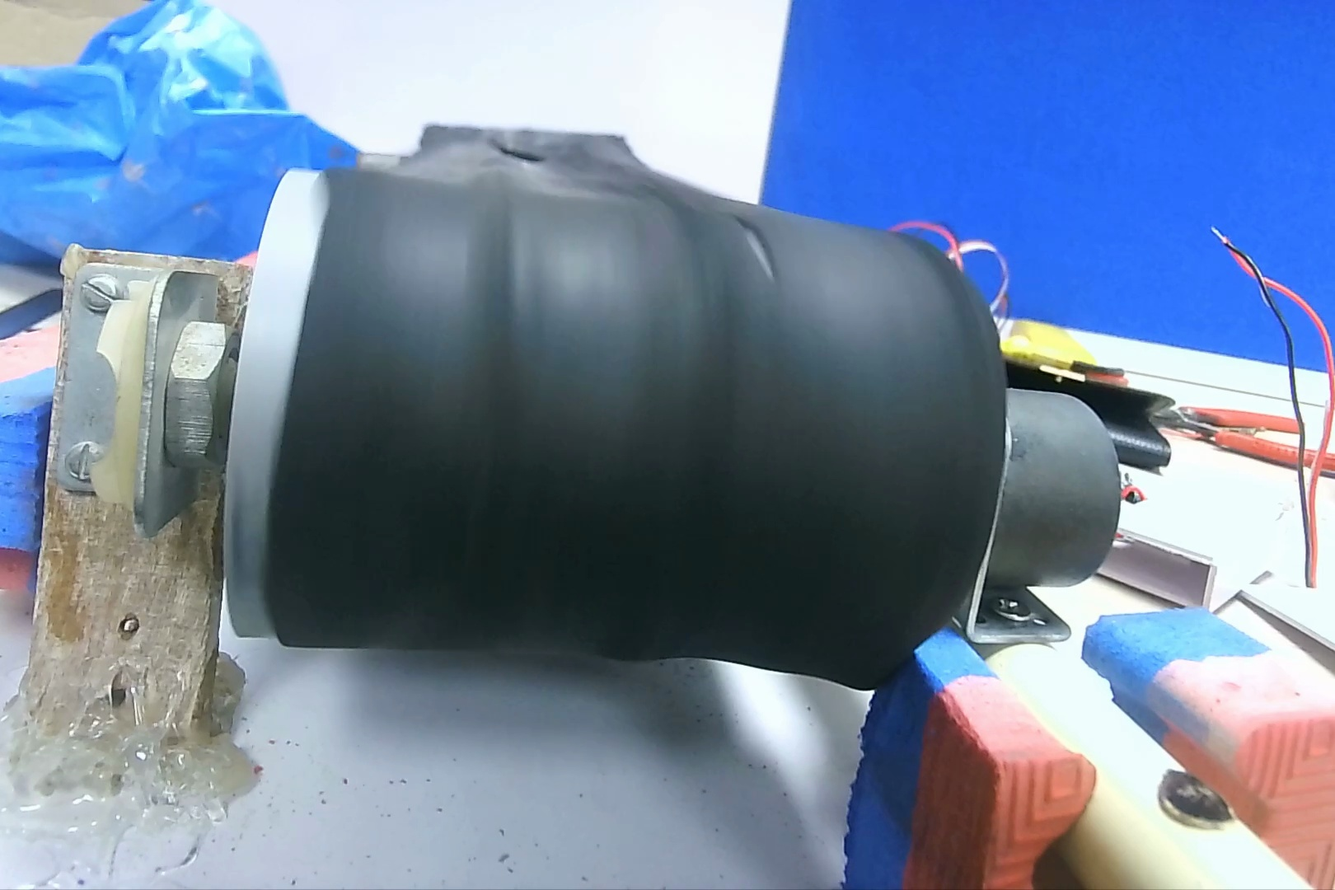tear: (722, 205, 791, 296)
